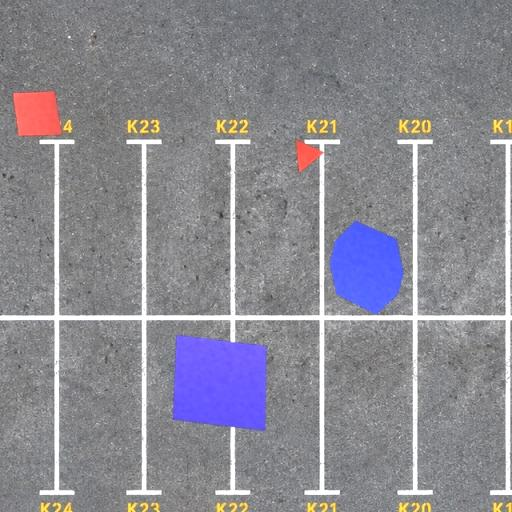BLUE_SQUARE: (172, 334, 267, 432)
RED_SQUARE: (12, 90, 63, 136)
